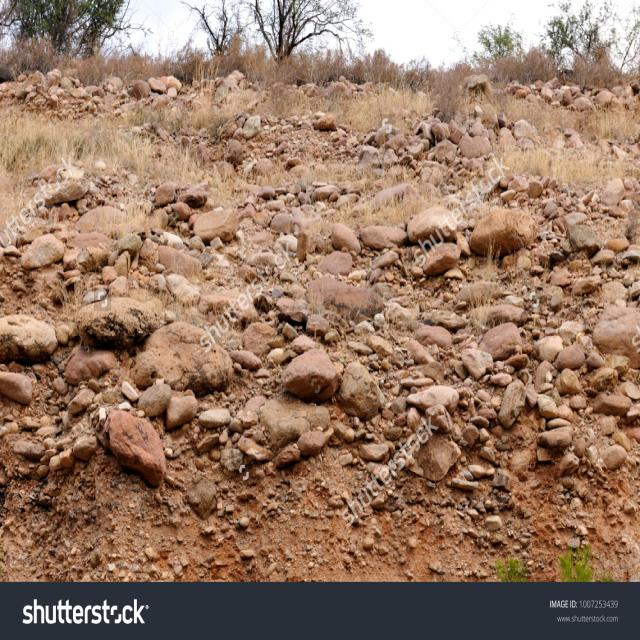Alluvial Soil: (49, 194, 592, 490)
